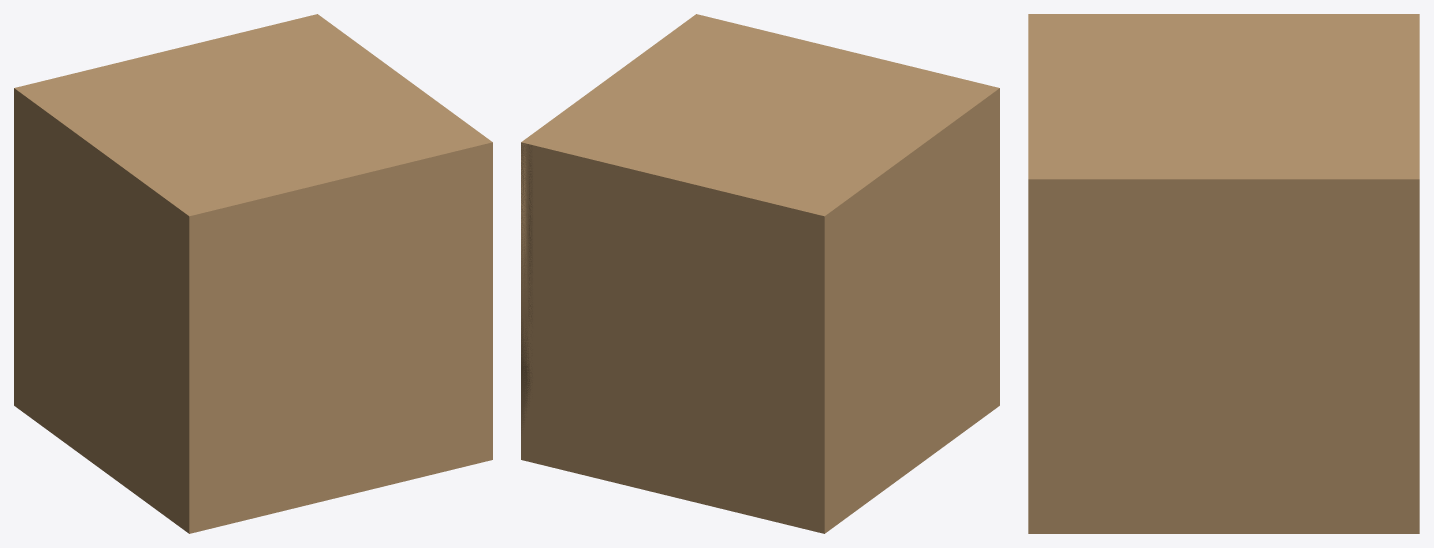
Rendered from box_corrugated_brown_b08-actor.glb.
3 renders of one model, left to right at view 1: azimuth 30°, elevation 25°; view 2: azimuth 150°, elevation 25°; view 3: azimuth 270°, elevation 25°, orthographic. The views are drawn at different scales.
Visible parts, largest first — view 1: box_corrugated_brown_b08; view 2: box_corrugated_brown_b08; view 3: box_corrugated_brown_b08.
Part boxes in pixels (x1,y1,x2,y2): box_corrugated_brown_b08: [14, 14, 492, 533]; box_corrugated_brown_b08: [521, 14, 999, 533]; box_corrugated_brown_b08: [1028, 14, 1419, 533].
Size of the model in its own units: 0.3038 by 0.3038 by 0.3038.
